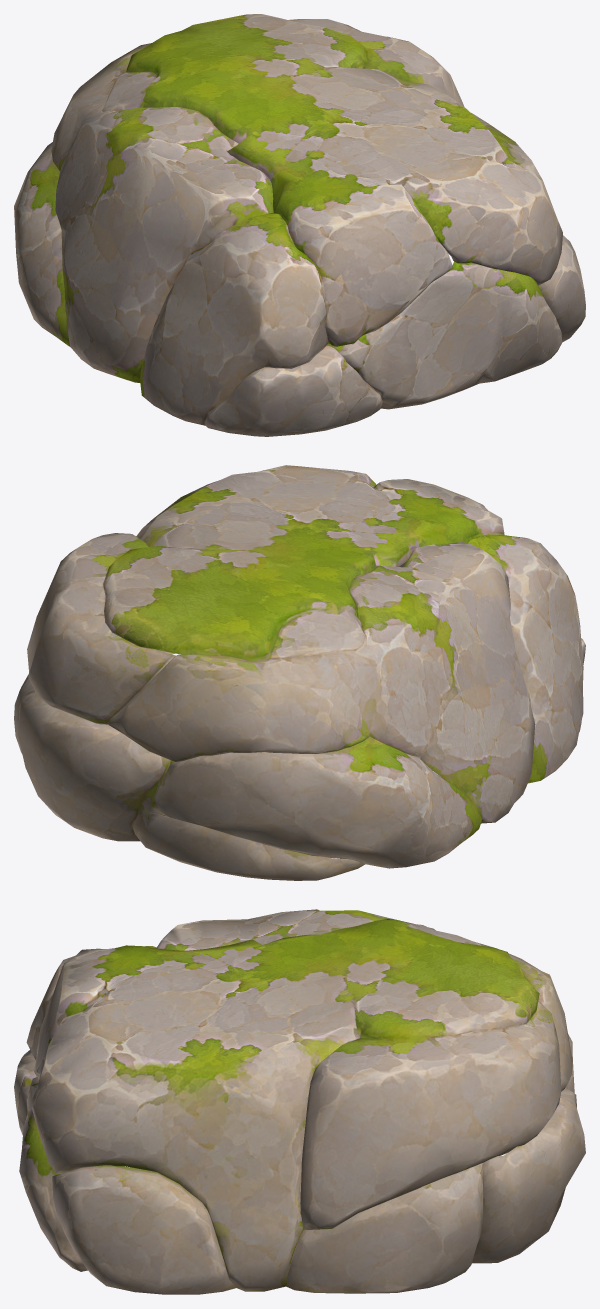
The model's file is Escalon_rocoso.glb.
3 views of the same model, one above another, from view 1: azimuth 30°, elevation 25°; view 2: azimuth 150°, elevation 25°; view 3: azimuth 270°, elevation 25° (orthographic). The views are drawn at different scales.
Parts seen in each view (by area): view 1: tripo_node_4ac99dc6-6150-4dbd-8fb6-089b0a2892ee; view 2: tripo_node_4ac99dc6-6150-4dbd-8fb6-089b0a2892ee; view 3: tripo_node_4ac99dc6-6150-4dbd-8fb6-089b0a2892ee.
Boxes of the visible parts, x1,y1,x2,y2 form: tripo_node_4ac99dc6-6150-4dbd-8fb6-089b0a2892ee: (14, 14, 585, 436); tripo_node_4ac99dc6-6150-4dbd-8fb6-089b0a2892ee: (14, 465, 585, 880); tripo_node_4ac99dc6-6150-4dbd-8fb6-089b0a2892ee: (14, 909, 585, 1294).
Bounding box in the file's own units: 0.8765 × 0.4458 × 0.9995.
1 material, 1 textured.
